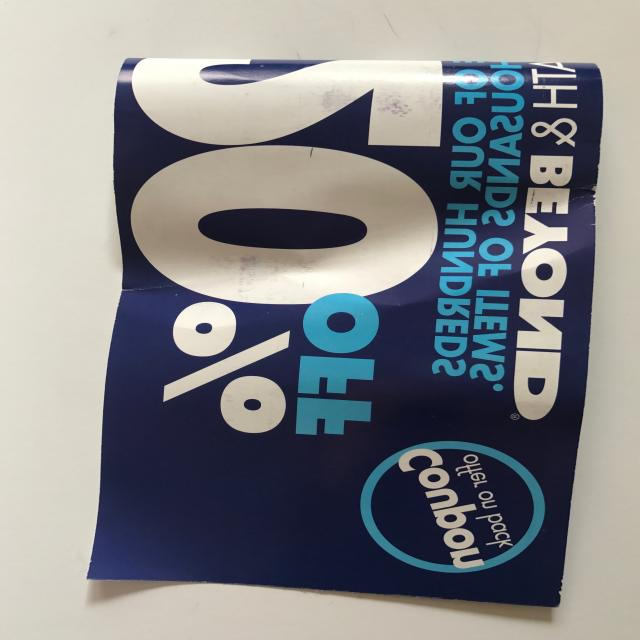paper: (49, 29, 640, 628)
